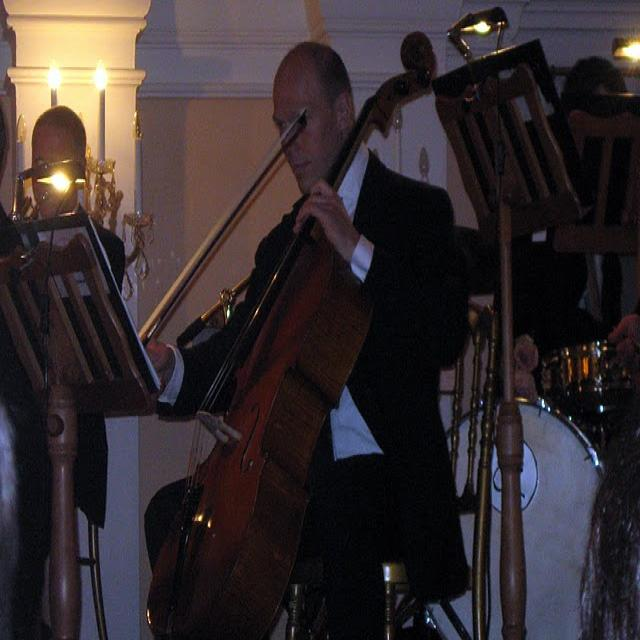cello: (144, 29, 440, 638)
drums: (438, 291, 640, 640)
